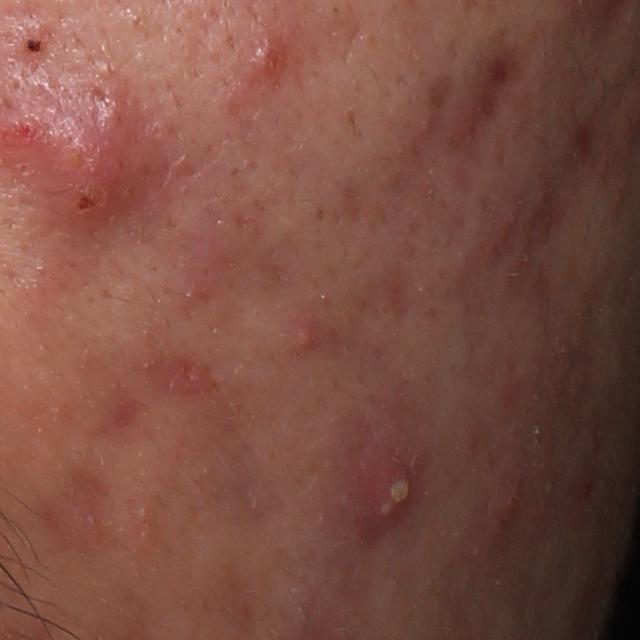atrophic_scar: (451, 31, 540, 190), (526, 104, 601, 278), (143, 354, 220, 402)
papule: (238, 31, 296, 88), (495, 481, 524, 533), (291, 320, 319, 354)
pustule: (353, 448, 420, 538)
